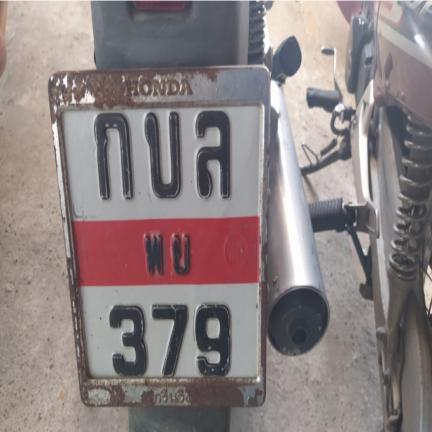3: (105, 298, 151, 379)
7: (153, 297, 191, 379)
9: (194, 297, 233, 377)
A01: (88, 112, 140, 209)
A26: (140, 108, 184, 204)
A36: (191, 107, 234, 202)
PYO: (139, 224, 192, 278)
